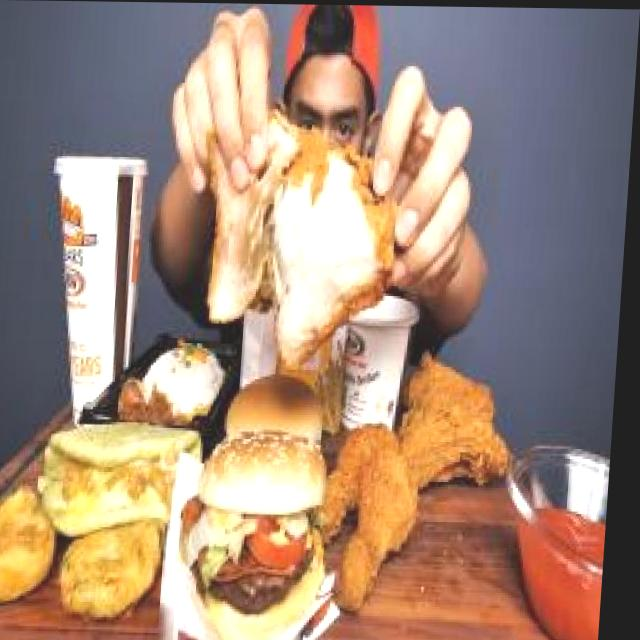AW cola: (43, 136, 158, 425)
black pepper rice bowl: (112, 342, 240, 438)
cheese burger: (231, 376, 333, 460)
fried chicken: (192, 87, 416, 380), (321, 337, 531, 612)
mango chicken pocket: (42, 411, 219, 543)
mozza burger: (180, 422, 351, 639)
perkedel: (63, 506, 184, 610), (0, 468, 75, 609)
